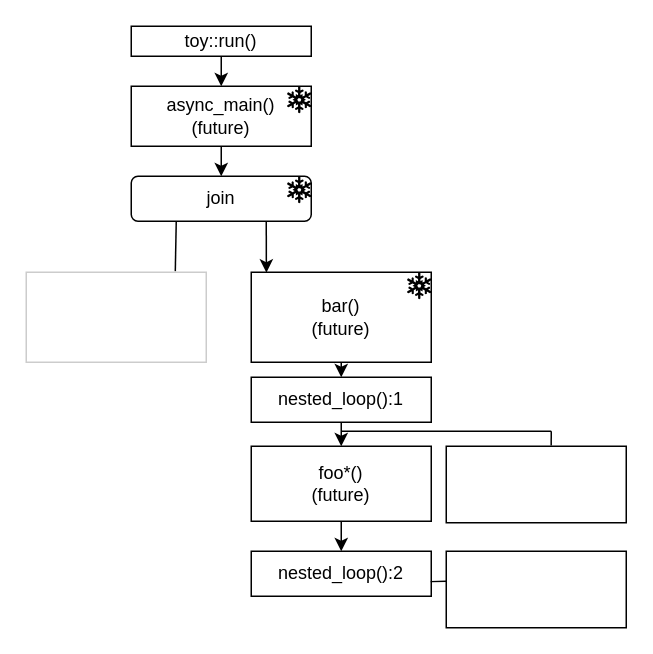
Some shapes in this 653 by 654 pixel diagram are drawn without their labels. Here are the shapes that lost their labels. From the top down, the centre of each, then its label:
(115,316): foo() (future)
(535,484): cleanup() (future)
(535,589): cleanup_foo() (future)
